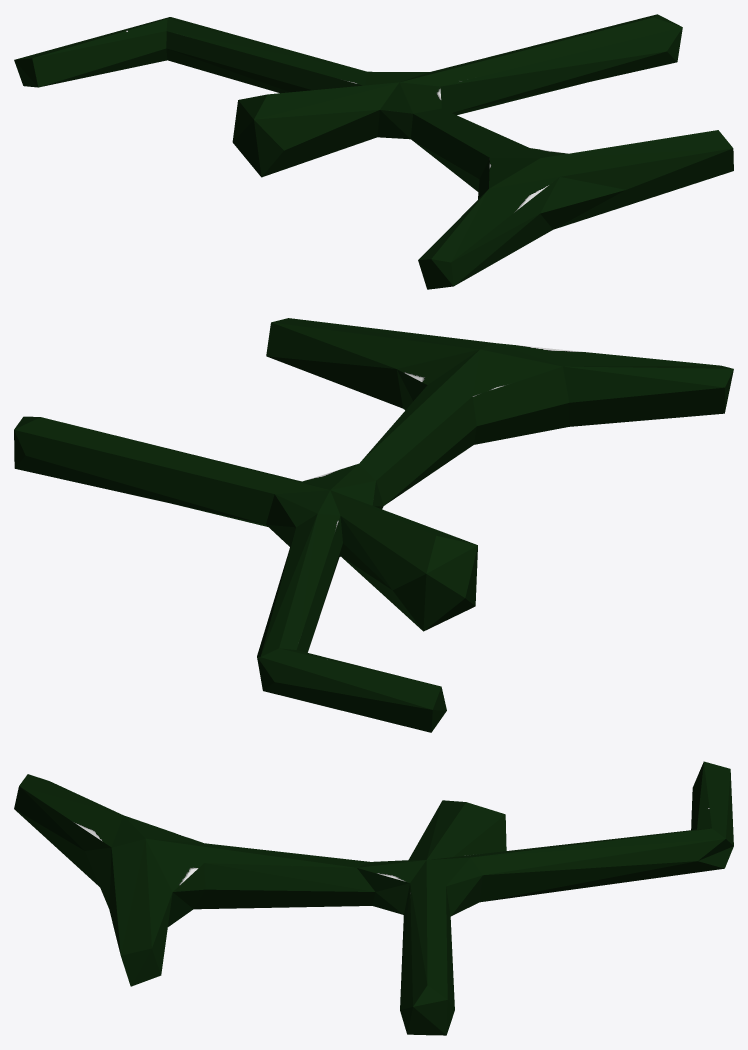
Rendered from Vines1.glb.
3 renders of one model, top to bottom at view 1: azimuth 30°, elevation 25°; view 2: azimuth 150°, elevation 25°; view 3: azimuth 270°, elevation 25°, orthographic. The views are drawn at different scales.
Visible parts, largest first — view 1: Vines; view 2: Vines; view 3: Vines.
Part boxes in pixels (left/top/right/bottom): Vines: left=14, top=14, right=733, bottom=289; Vines: left=14, top=318, right=733, bottom=732; Vines: left=14, top=761, right=733, bottom=1035.
Size of the model in its own units: 1.96 by 0.363 by 2.31.
Materials: 1 (1 with a texture image).
